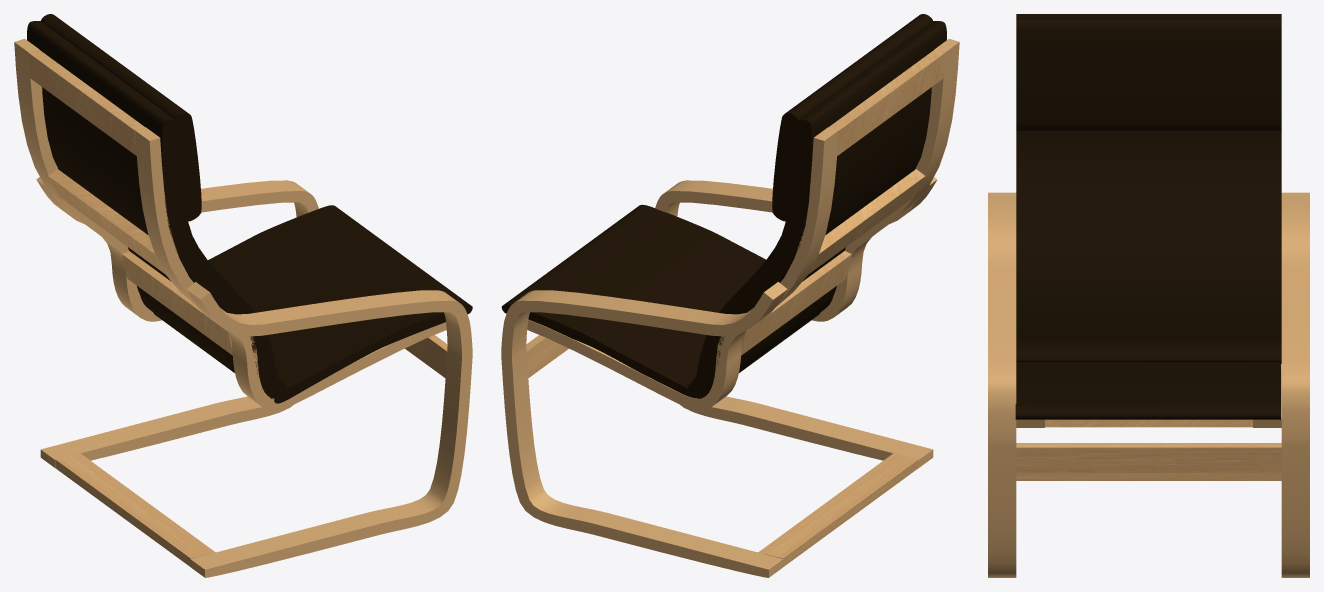
Rendered from PoengChair.glb.
The picture shows the model from 3 angles, left to right: view 1: azimuth 30°, elevation 25°; view 2: azimuth 150°, elevation 25°; view 3: azimuth 270°, elevation 25°; orthographic projection. The views are drawn at different scales.
Parts seen in each view (by area): view 1: Line007, Line006, Line004, Line003, Line002, Line001, Box006, Line005, Box001, Box002, Box003, Box007; view 2: Line007, Line006, Line003, Line004, Line001, Line002, Box006, Line005, Box001, Box002, Box003, Box007; view 3: Line006, Line005, Line007, Line003, Line004, Box007, Box006, Box005.
Part boxes in pixels (bbox=[...]): Line007: bbox=[153, 205, 472, 403]; Line006: bbox=[27, 21, 286, 398]; Line004: bbox=[186, 282, 472, 577]; Line003: bbox=[36, 177, 318, 467]; Line002: bbox=[135, 127, 446, 410]; Line001: bbox=[14, 38, 161, 321]; Box006: bbox=[55, 453, 215, 566]; Line005: bbox=[41, 14, 201, 221]; Box001: bbox=[28, 49, 144, 155]; Box002: bbox=[48, 169, 165, 274]; Box003: bbox=[122, 251, 232, 355]; Box007: bbox=[405, 335, 447, 378]; Line007: bbox=[501, 204, 820, 398]; Line006: bbox=[687, 21, 946, 398]; Line003: bbox=[501, 282, 787, 577]; Line004: bbox=[655, 177, 937, 467]; Line001: bbox=[527, 127, 838, 410]; Line002: bbox=[812, 38, 959, 321]; Box006: bbox=[758, 453, 918, 566]; Line005: bbox=[772, 14, 932, 221]; Box001: bbox=[829, 49, 945, 155]; Box002: bbox=[808, 169, 925, 274]; Box003: bbox=[741, 251, 851, 355]; Box007: bbox=[526, 335, 568, 377]; Line006: bbox=[1016, 14, 1281, 363]; Line005: bbox=[1016, 18, 1281, 130]; Line007: bbox=[1015, 362, 1280, 419]; Line003: bbox=[1281, 192, 1309, 577]; Line004: bbox=[988, 192, 1016, 577]; Box007: bbox=[1016, 443, 1281, 472]; Box006: bbox=[1016, 472, 1281, 480]; Box005: bbox=[1045, 419, 1252, 427].
Size of the model in its own units: 30.38 by 41.04 by 26.77.
15 materials, 12 textured.
